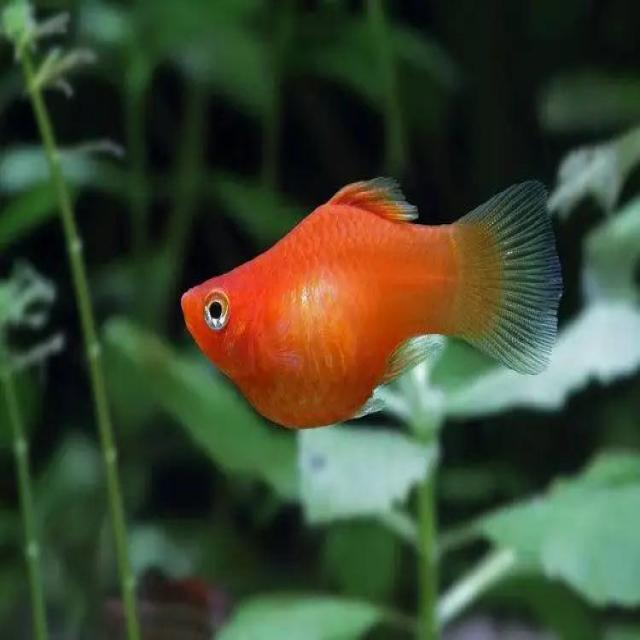PlatyFish: (176, 164, 565, 440)
